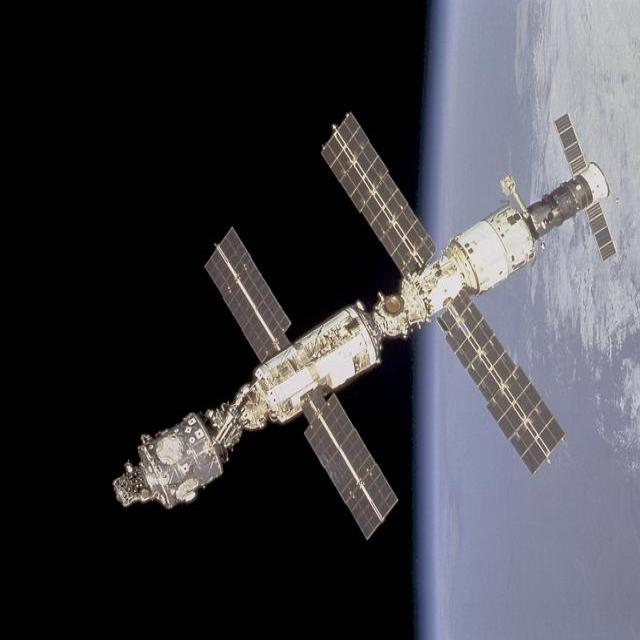medium_debris: (81, 94, 620, 559)
